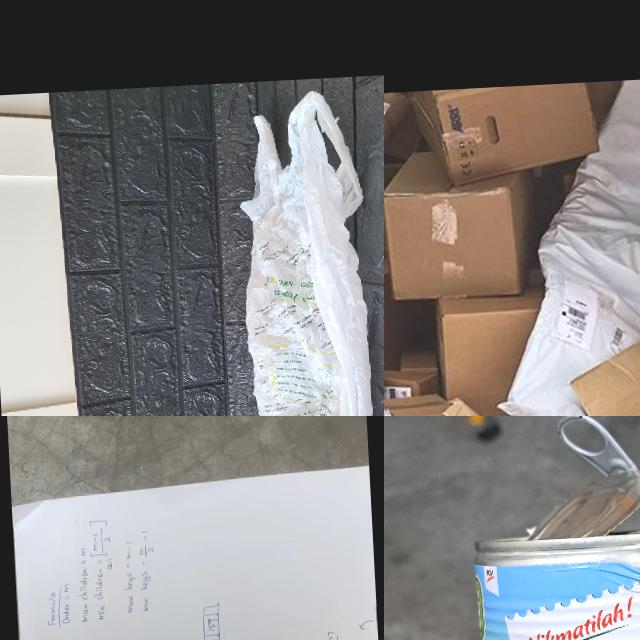aba de lata: (557, 416, 640, 482)
lata: (473, 523, 640, 640)
papel: (14, 468, 384, 640)
papelão: (384, 143, 541, 301), (432, 271, 582, 416), (406, 81, 605, 187), (571, 337, 640, 416), (384, 90, 425, 163)
sacola plástica: (236, 89, 381, 416)
